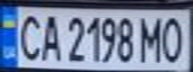1: (81, 12, 103, 62)
2: (63, 12, 84, 63)
8: (115, 14, 139, 63)
9: (100, 14, 118, 63)
A: (36, 11, 63, 62)
C: (12, 11, 45, 62)
M: (136, 14, 166, 63)
O: (157, 12, 190, 63)
